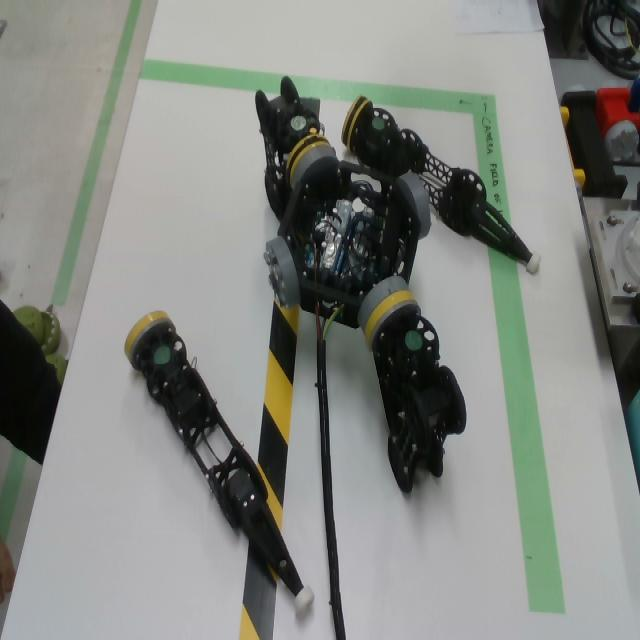body: (277, 161, 421, 329)
body_connector: (357, 276, 409, 332), (263, 237, 301, 309), (396, 171, 431, 240), (291, 147, 339, 191)
leg: (124, 311, 315, 615), (341, 93, 541, 276), (365, 291, 467, 495), (255, 76, 329, 221)
leg_connector: (364, 291, 421, 348), (124, 311, 175, 369), (286, 135, 331, 188), (341, 96, 371, 149)
leg_marker: (405, 331, 421, 351), (155, 345, 170, 364), (290, 116, 306, 128), (372, 117, 385, 131)
